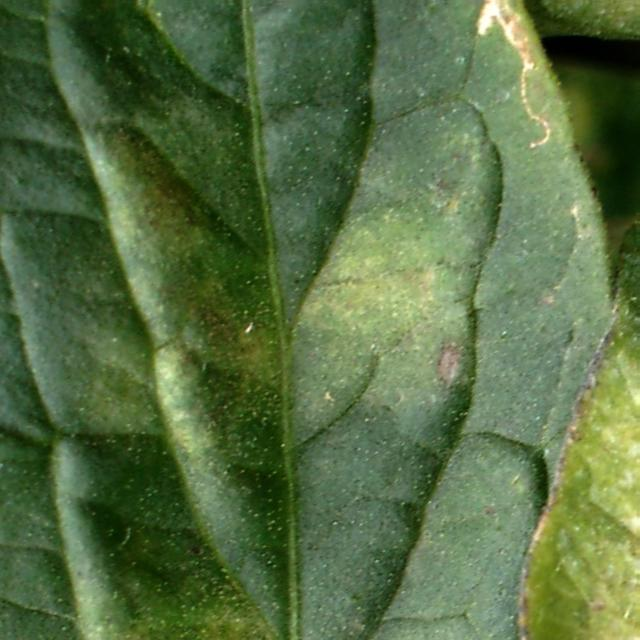Tomato mold leaf: (0, 0, 640, 640), (528, 0, 640, 640)
